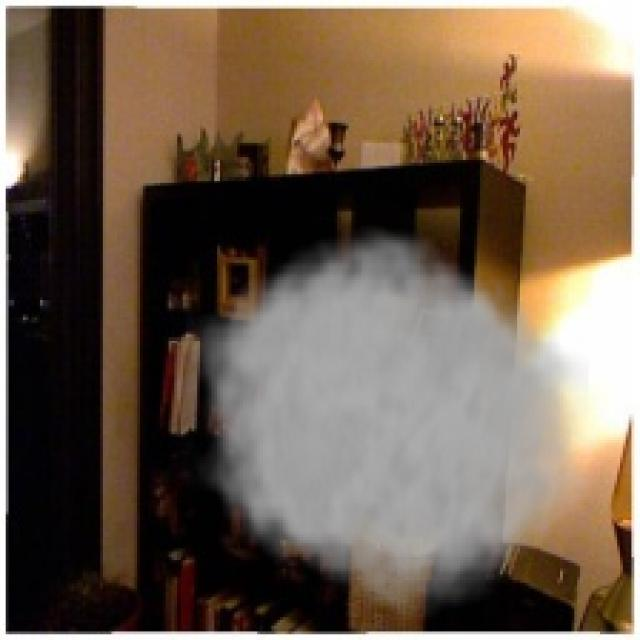smoke: (180, 217, 589, 629)
